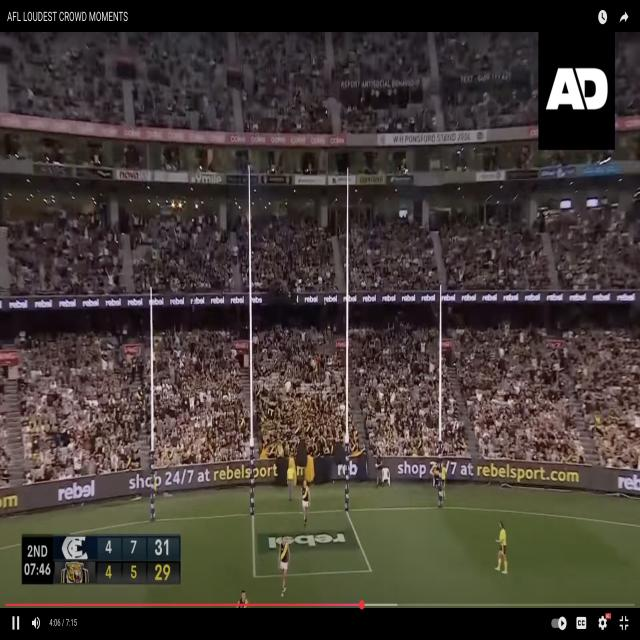crowd: (0, 24, 537, 127), (450, 297, 640, 474), (252, 307, 471, 459), (0, 182, 247, 292), (436, 171, 640, 285), (20, 316, 149, 488), (154, 313, 248, 466), (250, 195, 348, 294), (348, 182, 437, 291), (614, 26, 640, 115)
